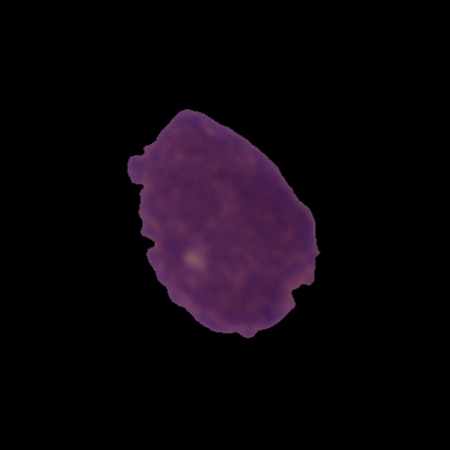HEM: (124, 105, 323, 341)
